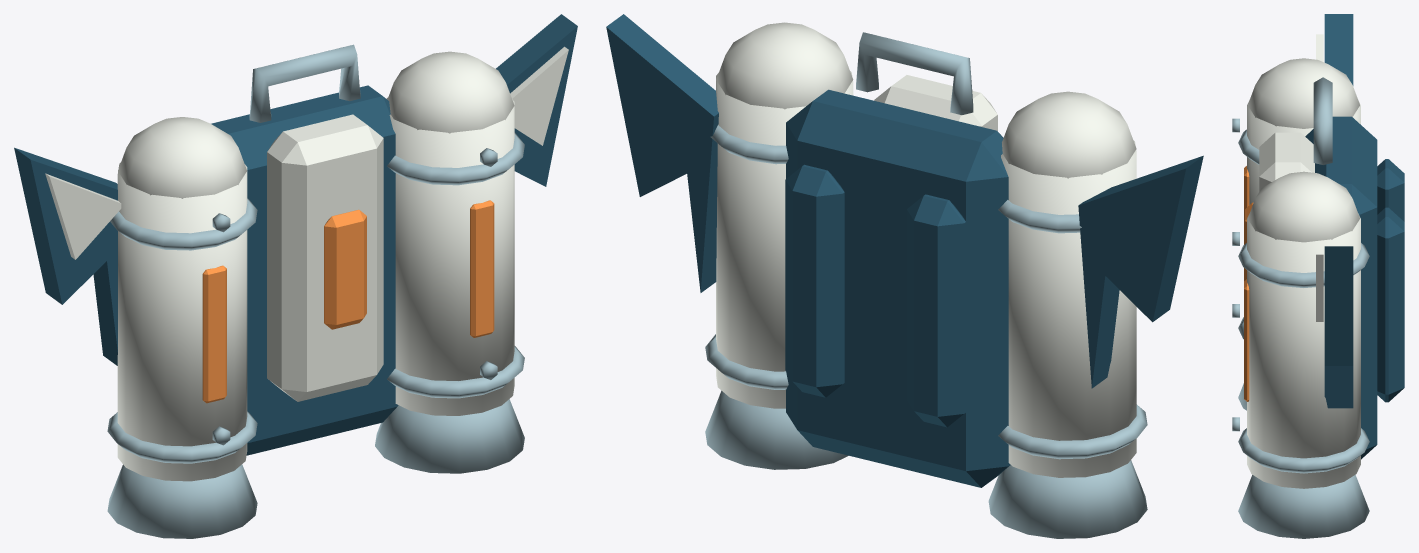
File: jetpack.glb
The picture shows the model from 3 angles, left to right: view 1: azimuth 30°, elevation 25°; view 2: azimuth 150°, elevation 25°; view 3: azimuth 270°, elevation 25°; orthographic projection. The views are drawn at different scales.
Parts seen in each view (by area): view 1: Coastal club | jetpack; view 2: Coastal club | jetpack; view 3: Coastal club | jetpack.
Part boxes in pixels (bbox=[...]): Coastal club | jetpack: bbox=[14, 14, 577, 538]; Coastal club | jetpack: bbox=[606, 14, 1203, 538]; Coastal club | jetpack: bbox=[1232, 14, 1404, 538].
Size of the model in its own units: 0.86 by 0.6286 by 0.2695.
